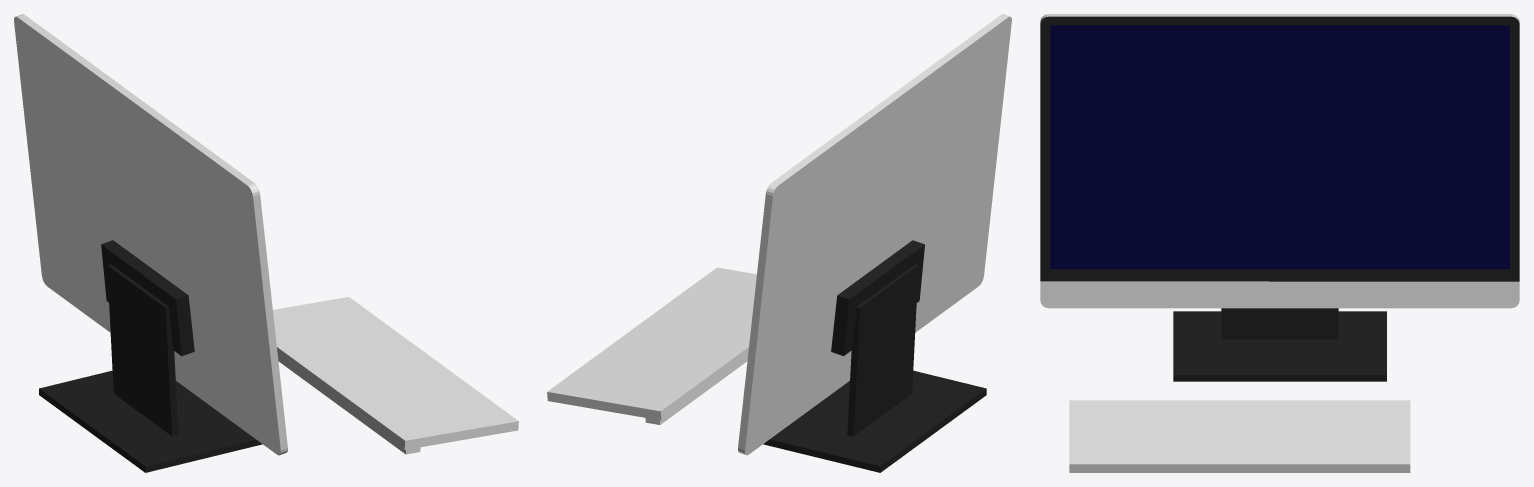
Rendered from desk cartoon.glb.
3 renders of one model, left to right at view 1: azimuth 30°, elevation 25°; view 2: azimuth 150°, elevation 25°; view 3: azimuth 270°, elevation 25°, orthographic.
Visible parts, largest first — view 1: screen main, stand, keyboard; view 2: screen main, stand, keyboard; view 3: screen main, keyboard, stand.
Boxes of the visible parts, x1=… form: screen main: x1=14, y1=14, x2=287, y2=455; stand: x1=39, y1=240, x2=262, y2=472; keyboard: x1=273, y1=297, x2=518, y2=454; screen main: x1=738, y1=14, x2=1011, y2=455; stand: x1=763, y1=240, x2=986, y2=472; keyboard: x1=547, y1=267, x2=756, y2=424; screen main: x1=1040, y1=14, x2=1519, y2=308; keyboard: x1=1069, y1=400, x2=1410, y2=472; stand: x1=1173, y1=308, x2=1386, y2=381.
Bounding box in the file's own units: 2.63 × 2.53 × 3.38.
